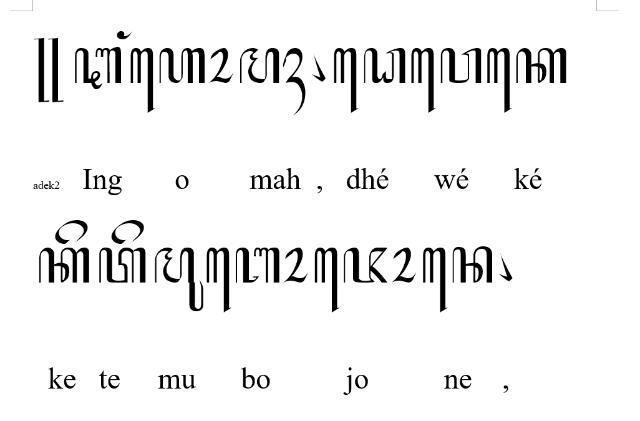I: (75, 46, 122, 90)
_h: (282, 48, 306, 117)
adeg2: (34, 38, 64, 102)
b: (236, 247, 280, 283)
dh: (364, 48, 406, 84)
e: (54, 220, 88, 244), (110, 220, 144, 244)
e1: (516, 47, 568, 84), (314, 247, 340, 312), (422, 247, 448, 312), (130, 48, 156, 112), (486, 48, 512, 112), (207, 247, 231, 313), (412, 49, 436, 114), (334, 48, 358, 112)
h: (159, 48, 205, 84)
j: (343, 247, 387, 283)
k: (39, 247, 90, 283)
kom: (311, 52, 325, 82), (498, 252, 512, 282)
m: (240, 47, 280, 84)
mu: (154, 247, 203, 311)
n: (452, 246, 493, 284)
ng: (117, 31, 133, 40)
o: (208, 47, 234, 83), (284, 247, 308, 283), (392, 247, 416, 283)
t: (99, 247, 147, 282)
w: (440, 47, 482, 83)
